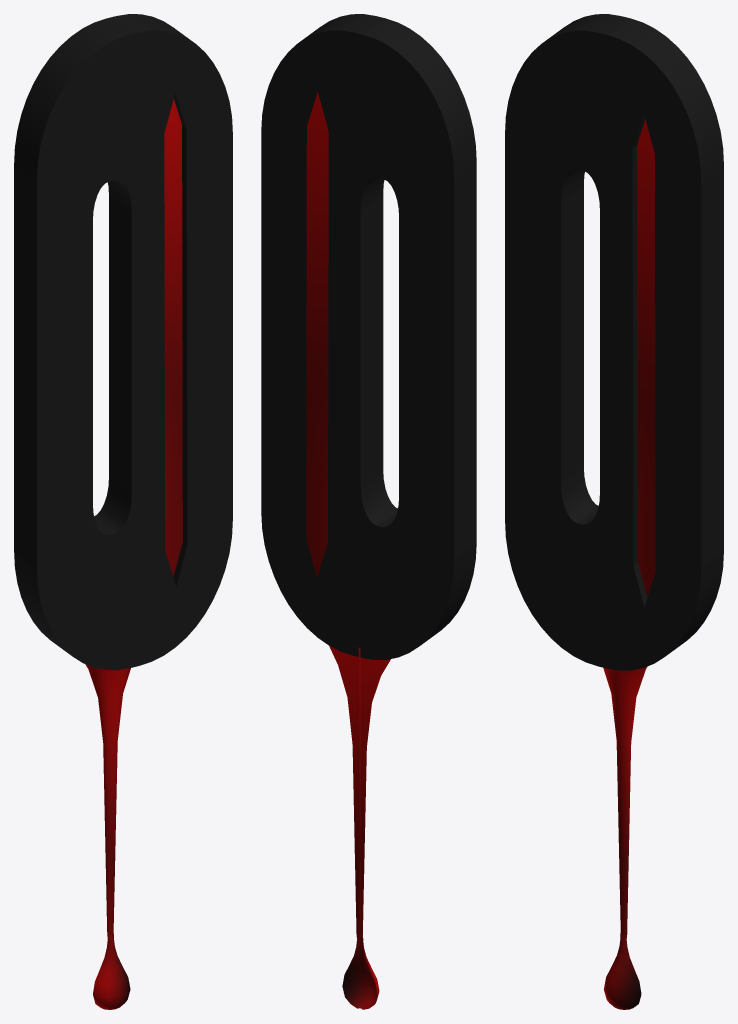
The picture shows the model from 3 angles, left to right: view 1: azimuth 30°, elevation 25°; view 2: azimuth 150°, elevation 25°; view 3: azimuth 330°, elevation 25°; orthographic projection.
Visible parts, largest first — view 1: 0, 0_Element, Blood_241; view 2: 0, 0_Element, Blood_241; view 3: 0, 0_Element, Blood_241.
Part boxes in pixels (<box>): 0: <box>14,14,232,670</box>; 0_Element: <box>164,99,182,576</box>; Blood_241: <box>85,664,130,1009</box>; 0: <box>261,14,476,659</box>; 0_Element: <box>306,92,328,576</box>; Blood_241: <box>329,646,390,1009</box>; 0: <box>505,14,723,670</box>; 0_Element: <box>637,119,655,597</box>; Blood_241: <box>603,667,646,1009</box>.
Bounding box in the file's own units: 24.83 × 120 × 5.05.
2 materials, 1 textured.
